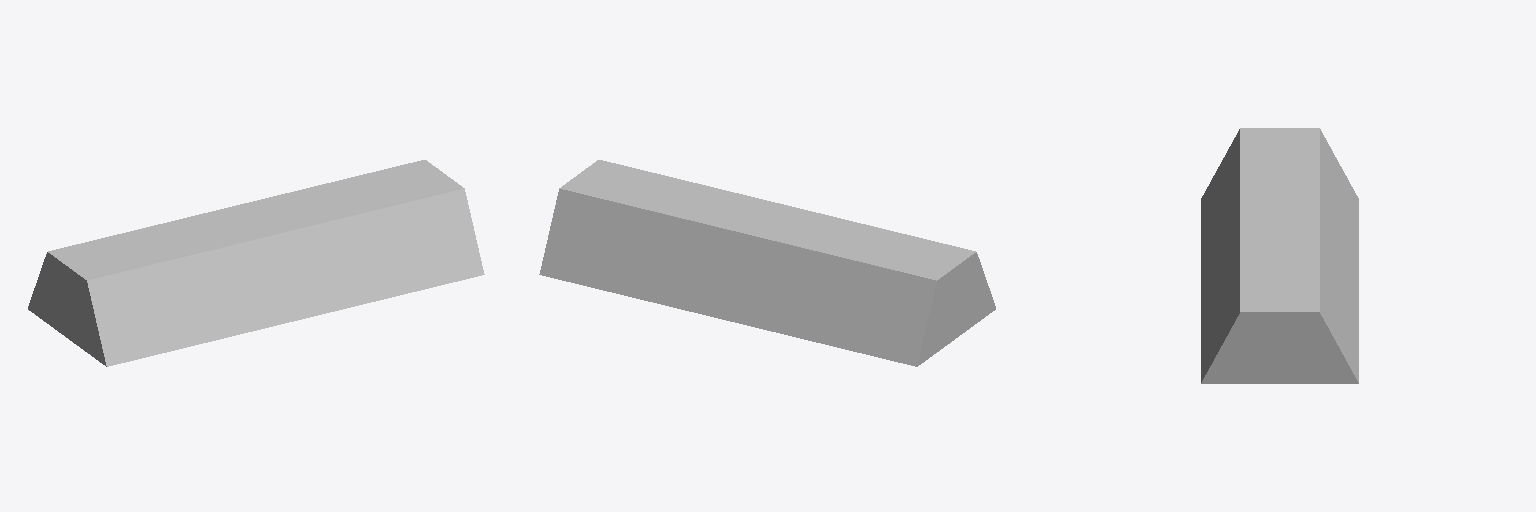
File: groundwork.obj
3 views of the same model, side by side, from view 1: azimuth 30°, elevation 25°; view 2: azimuth 150°, elevation 25°; view 3: azimuth 270°, elevation 25° (orthographic).
Parts seen in each view (by area): view 1: Cube; view 2: Cube; view 3: Cube.
Part boxes in pixels (x1,y1,x2,y2): Cube: (28, 160, 484, 366); Cube: (539, 160, 995, 366); Cube: (1201, 128, 1358, 383).
Bounding box in the file's own units: 11 × 2 × 4.